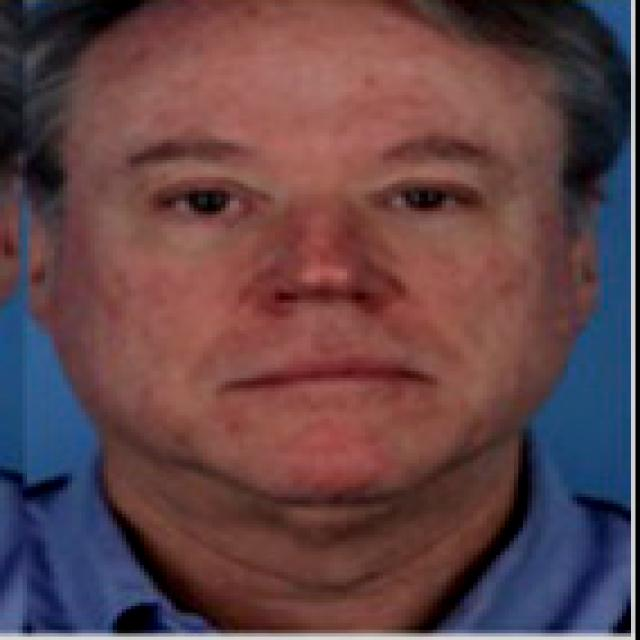normal_face: (68, 35, 535, 516)
